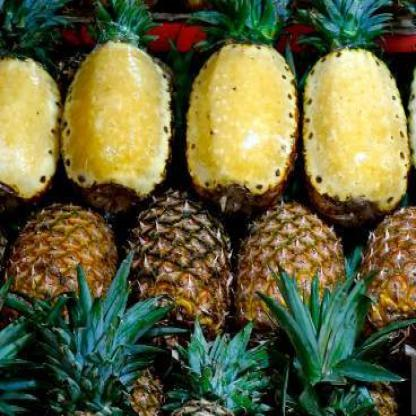pineapple: (237, 201, 404, 415), (7, 202, 172, 411), (125, 189, 269, 416), (303, 0, 410, 227), (186, 0, 298, 211), (60, 0, 173, 209), (0, 0, 62, 200), (360, 209, 416, 340)
